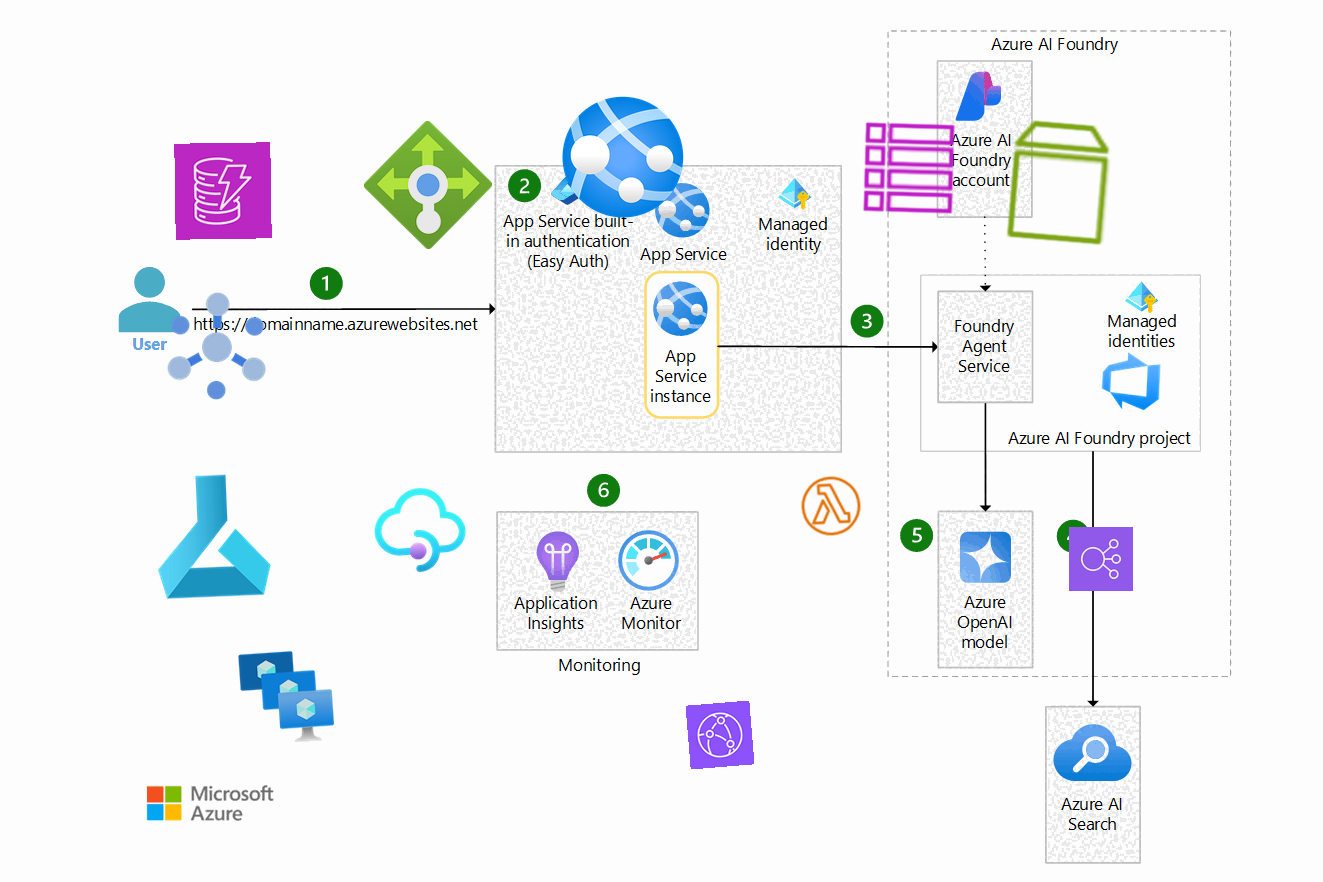aws_amazon_cloudfront: (685, 700, 755, 770)
aws_amazon_dynamodb: (174, 142, 272, 240)
aws_dynamodb_table: (859, 118, 959, 218)
aws_elastic_block_store_volume: (990, 112, 1130, 252)
aws_elastic_load_balancing: (1068, 526, 1134, 592)
aws_lambda_lambda_function: (797, 472, 865, 540)
azure_api_management_services: (368, 478, 472, 582)
azure_app_services: (558, 92, 688, 222)
azure_devops: (1097, 347, 1165, 415)
azure_load_balancers: (363, 120, 493, 250)
azure_machine_learning: (146, 469, 280, 603)
azure_vm_scale_sets: (233, 643, 337, 747)
gcp_pubsub: (151, 280, 283, 412)
